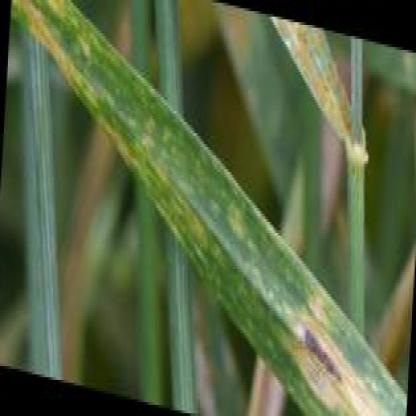Wheat Brown-rust: (277, 323, 345, 377), (174, 166, 212, 236), (219, 197, 246, 293), (102, 75, 138, 131), (250, 241, 272, 329), (66, 28, 94, 85), (143, 116, 168, 179), (349, 363, 374, 414), (286, 30, 320, 52), (312, 65, 336, 96), (321, 380, 345, 407), (311, 288, 326, 317), (335, 107, 350, 130)
